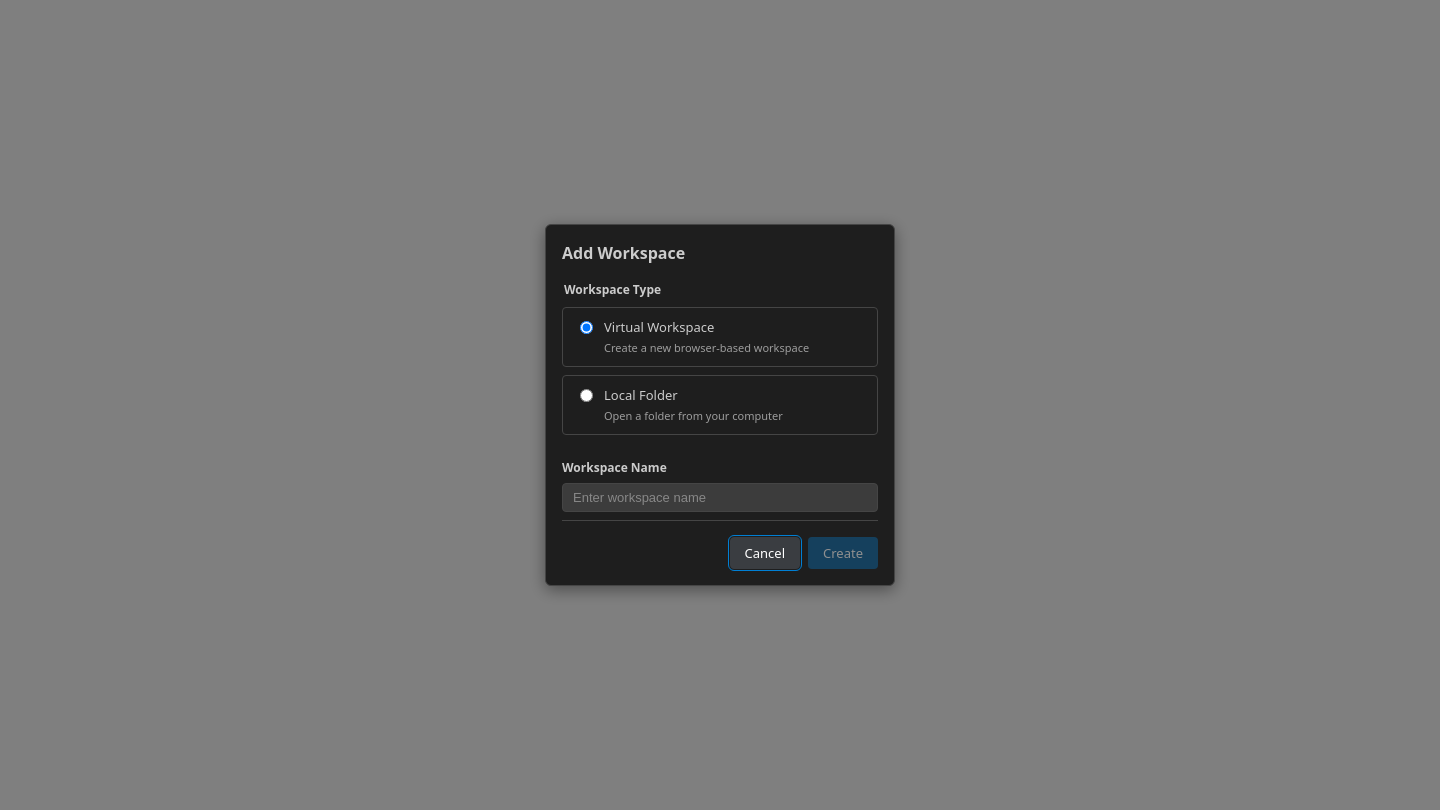
Test: AddWorkspaceDialog › local folder selection › uses getUniqueWorkspaceName to handle name collisions
The image size is (1440, 810).
Click the radio button labelled "Local Folder Open a folder from your computer" at [586, 396], box [580,389,593,402]
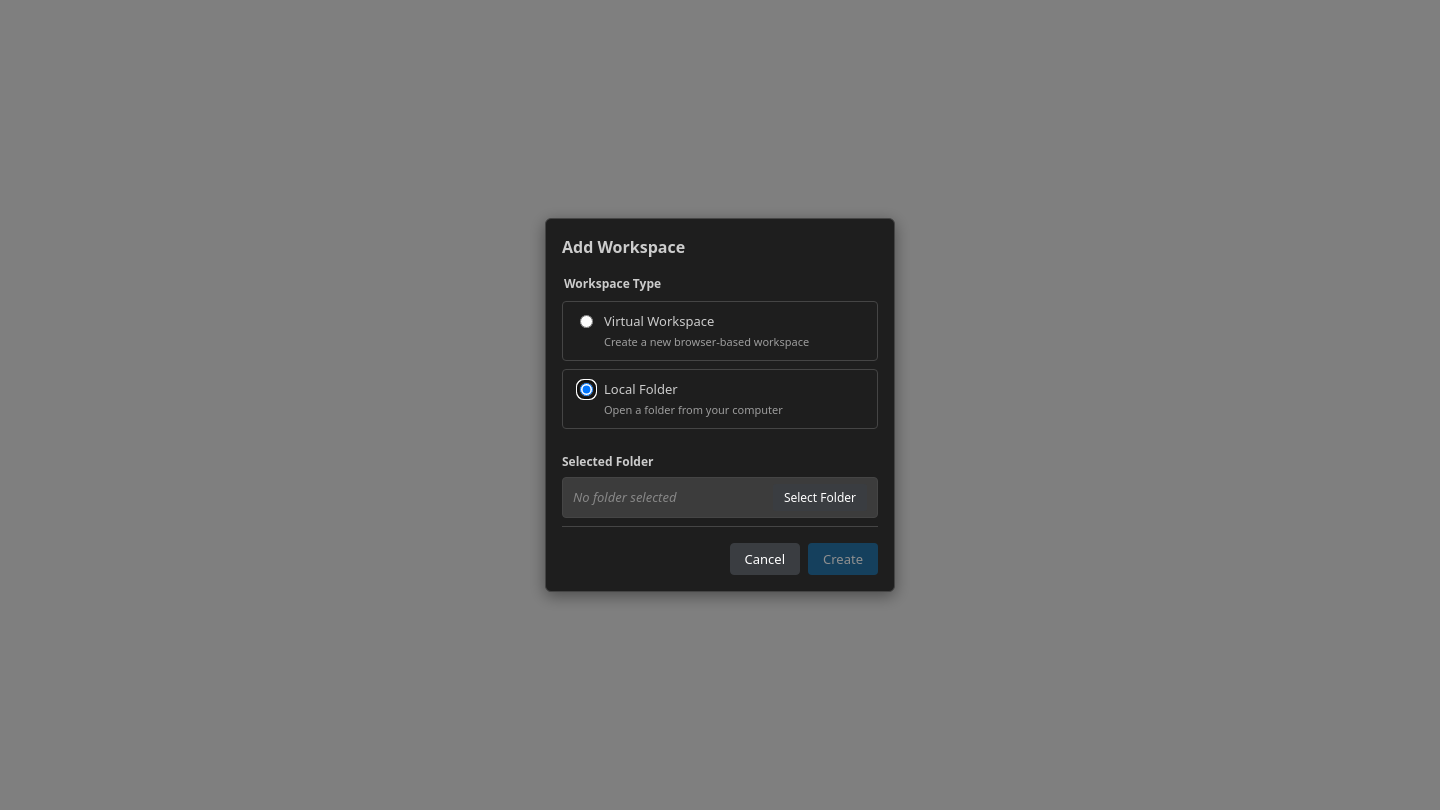
Click the button "Select Folder" at [820, 498], box [773,484,867,511]
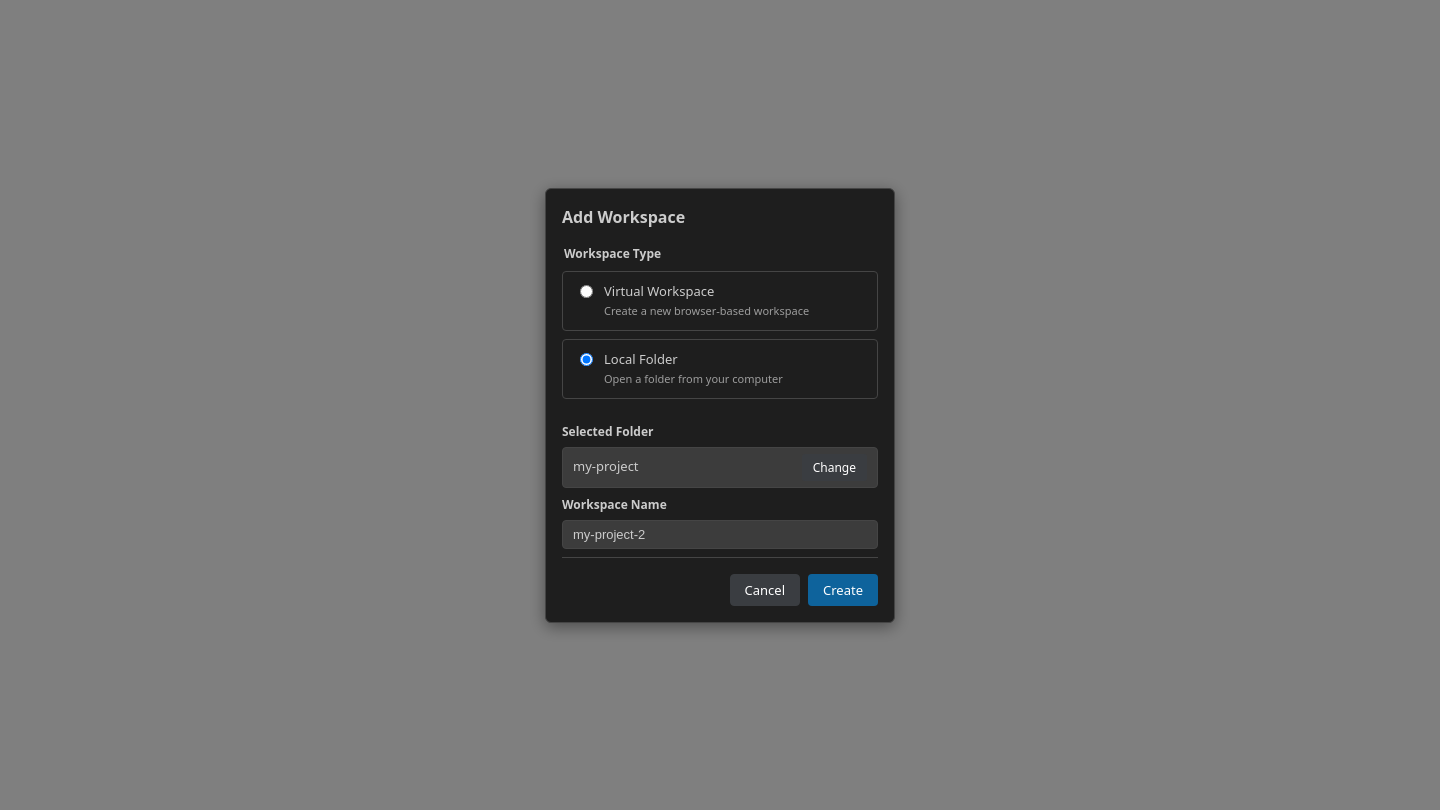
Expected: the field labelled "Workspace Name" holds "my-project-2", [562,520,878,548]
